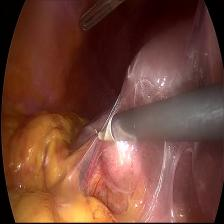Grasper: (74, 0, 122, 37)
Hook: (84, 112, 126, 158)
